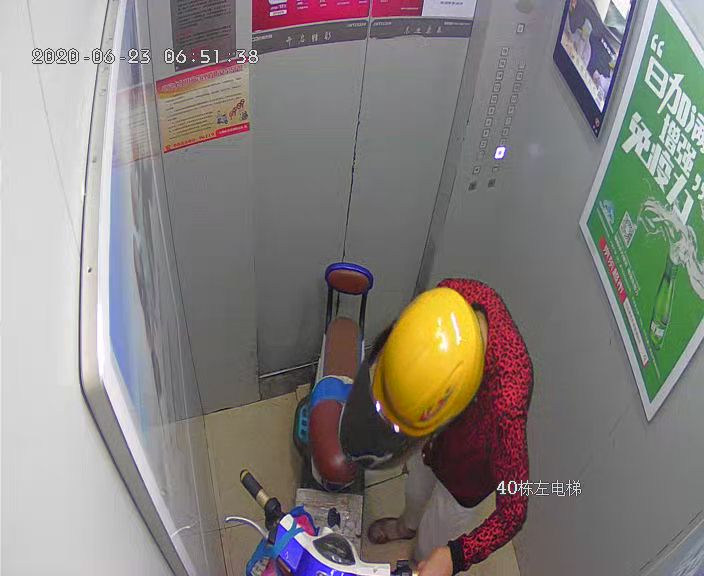Electric-bicycle: (234, 260, 421, 575)
